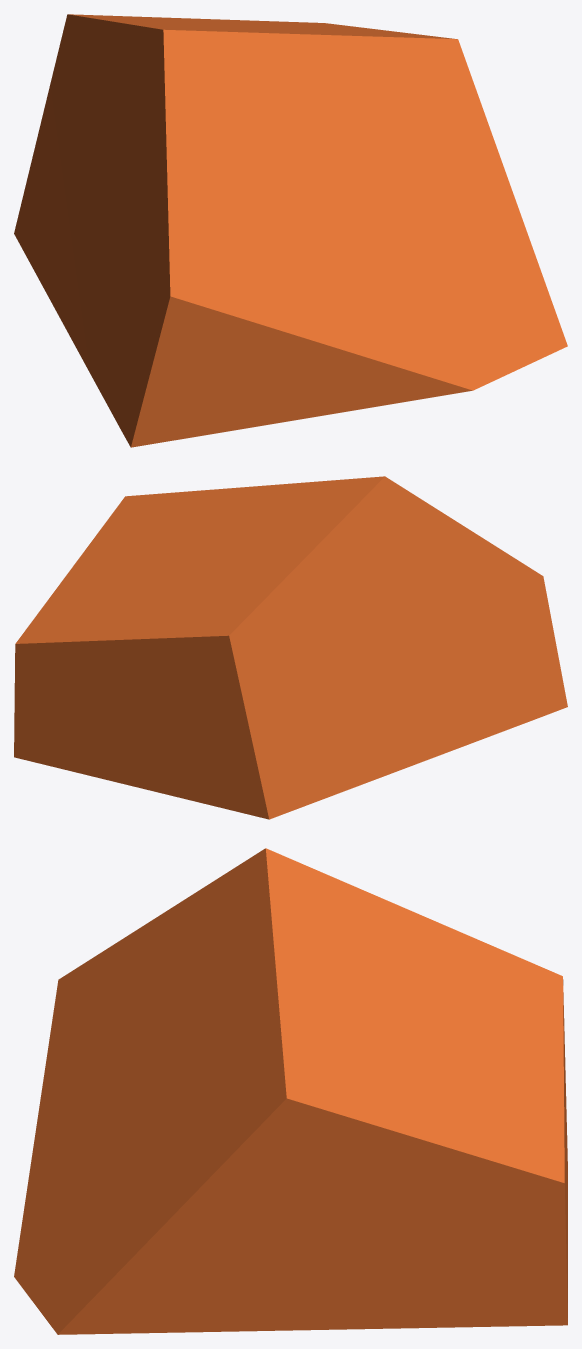
The model's file is SMALLROCK06.fbx.
3 renders of one model, top to bottom at view 1: azimuth 30°, elevation 25°; view 2: azimuth 150°, elevation 25°; view 3: azimuth 270°, elevation 25°, orthographic. The views are drawn at different scales.
Visible parts, largest first — view 1: SMALLROCK06; view 2: SMALLROCK06; view 3: SMALLROCK06.
Boxes of the visible parts, box(x1,y1,x2,y2) form: SMALLROCK06: box(14, 14, 567, 447); SMALLROCK06: box(14, 476, 567, 819); SMALLROCK06: box(14, 848, 567, 1334).
Bounding box in the file's own units: 22.94 × 16.18 × 24.44.
